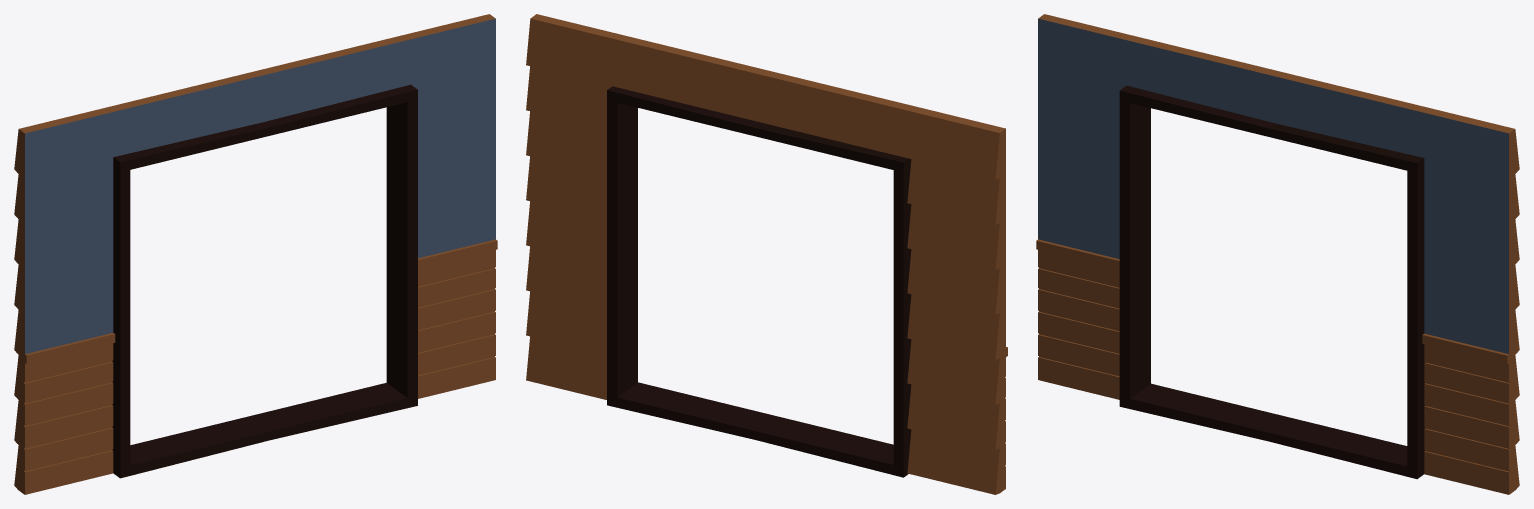
Rendered from ww_wall_door_c.glb.
3 views of the same model, side by side, from view 1: azimuth 30°, elevation 25°; view 2: azimuth 150°, elevation 25°; view 3: azimuth 330°, elevation 25° (orthographic).
Visible parts, largest first — view 1: Wall_Door_C; view 2: Wall_Door_C; view 3: Wall_Door_C.
Part boxes in pixels (left/top/right/bottom): Wall_Door_C: left=14, top=14, right=497, bottom=494; Wall_Door_C: left=526, top=14, right=1007, bottom=494; Wall_Door_C: left=1036, top=14, right=1519, bottom=494.
Bounding box in the file's own units: 4.8 × 3.52 × 0.3744.
